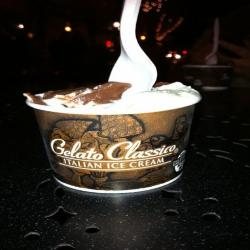icecream: (23, 56, 221, 205)
